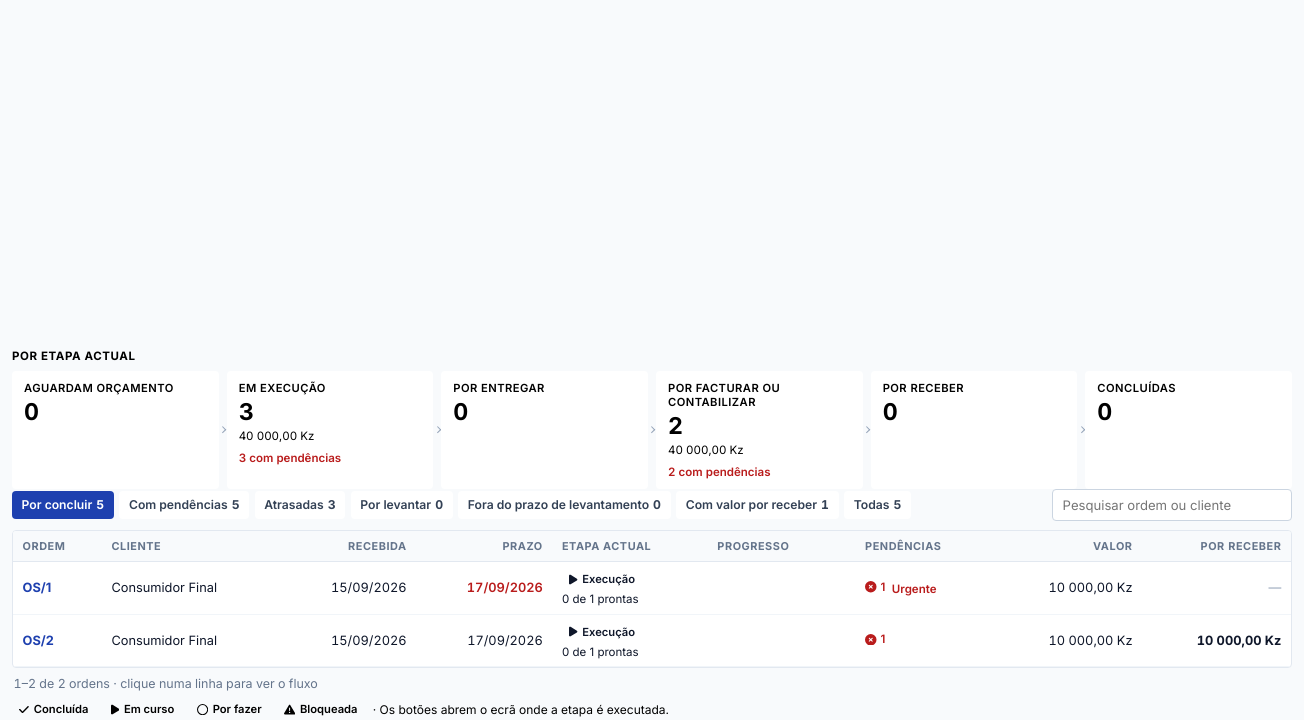
Fluxo de Processos — vista de volume (fluxo_tabela.js) › funil, chips e tabela do fluxo com as colunas do legado; filtra no servidor e abre o fluxo por baixo da linha
The width and height of the screenshot is (1304, 720).
(page scrolled)
Expected: the button with class "ft-coluna" shows "3 com pendências", [227, 371, 433, 489]
Expected: the element with class "ft-coluna-info" shows "Kz", [239, 429, 314, 443]
Click the button with class "ft-chip" showing "Atrasadas3" at (300, 505), box [255, 491, 345, 519]
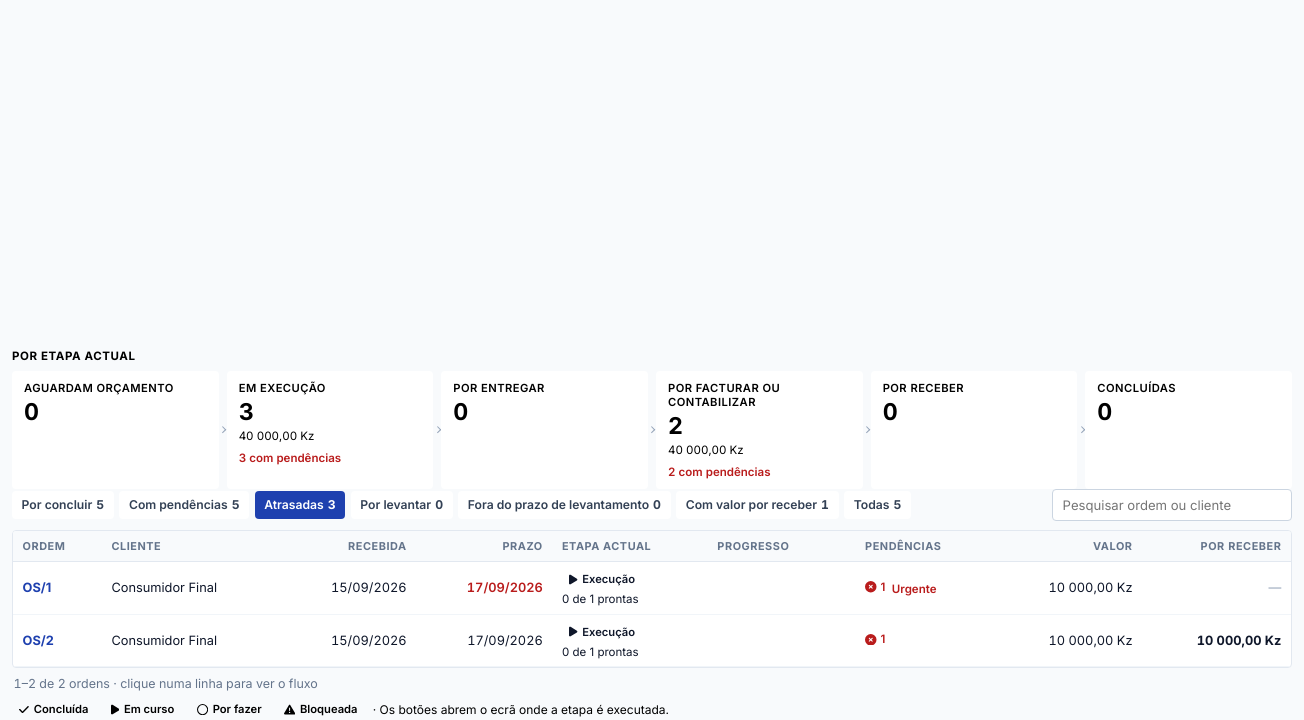
«Concluídas» passa o filtro para «Todas» (os concluídos não estão nos por concluir)
Click the button with class "ft-coluna" showing "Concluídas 0" at (1189, 430), box [1085, 371, 1292, 489]
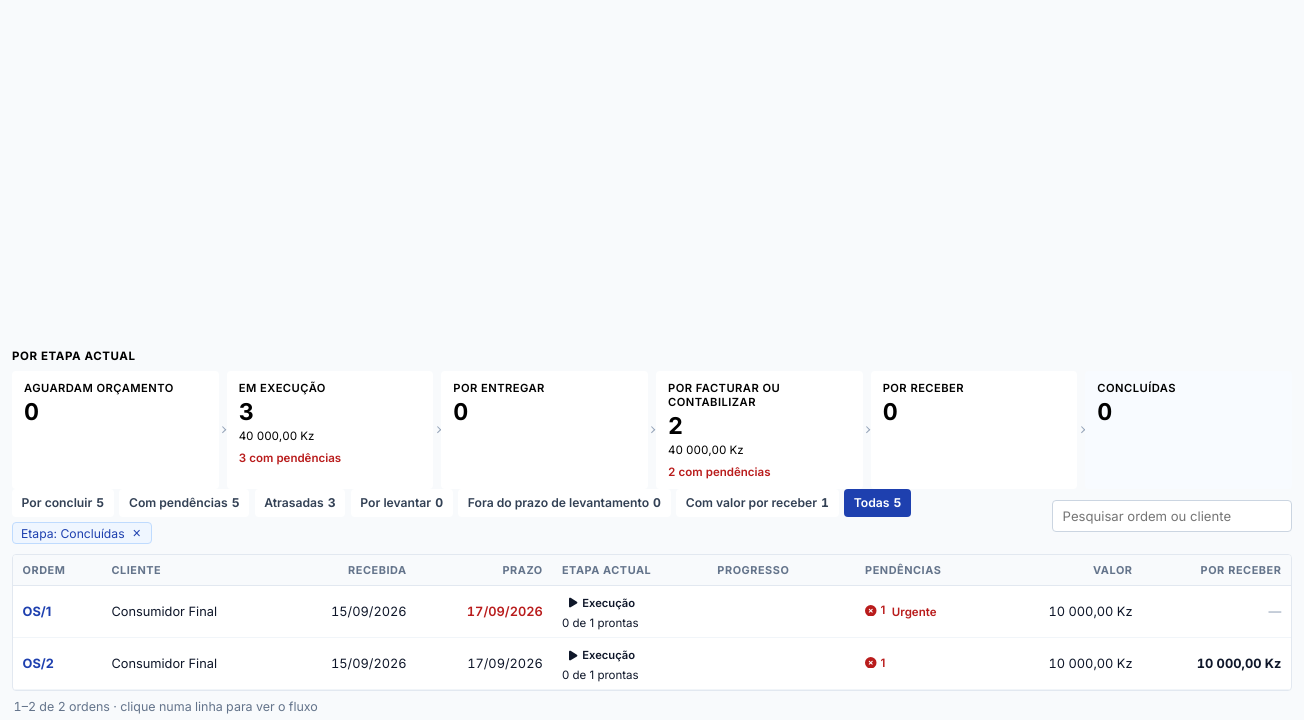
Expected: the text "Etapa: Concluídas ×" is shown, [12, 522, 152, 544]
o diagrama abre por baixo da linha escolhida
Click the button "OS/1" at (37, 611), box [23, 604, 51, 619]
(page scrolled)
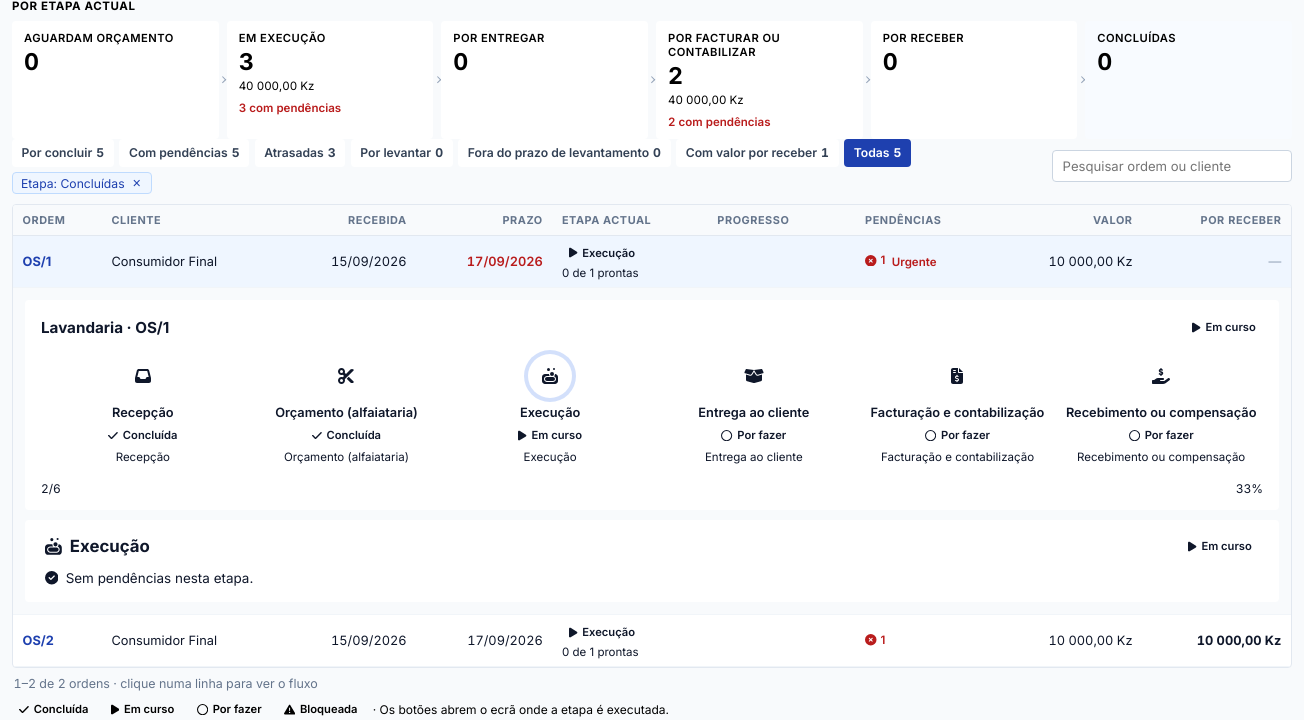
Expected: the button "OS/1" is expanded, [23, 254, 51, 269]
Expected: the row with class "ft-detalhe-linha" is shown, [13, 287, 1291, 614]
Expected: the heading "Execução" is shown, [45, 536, 150, 556]
